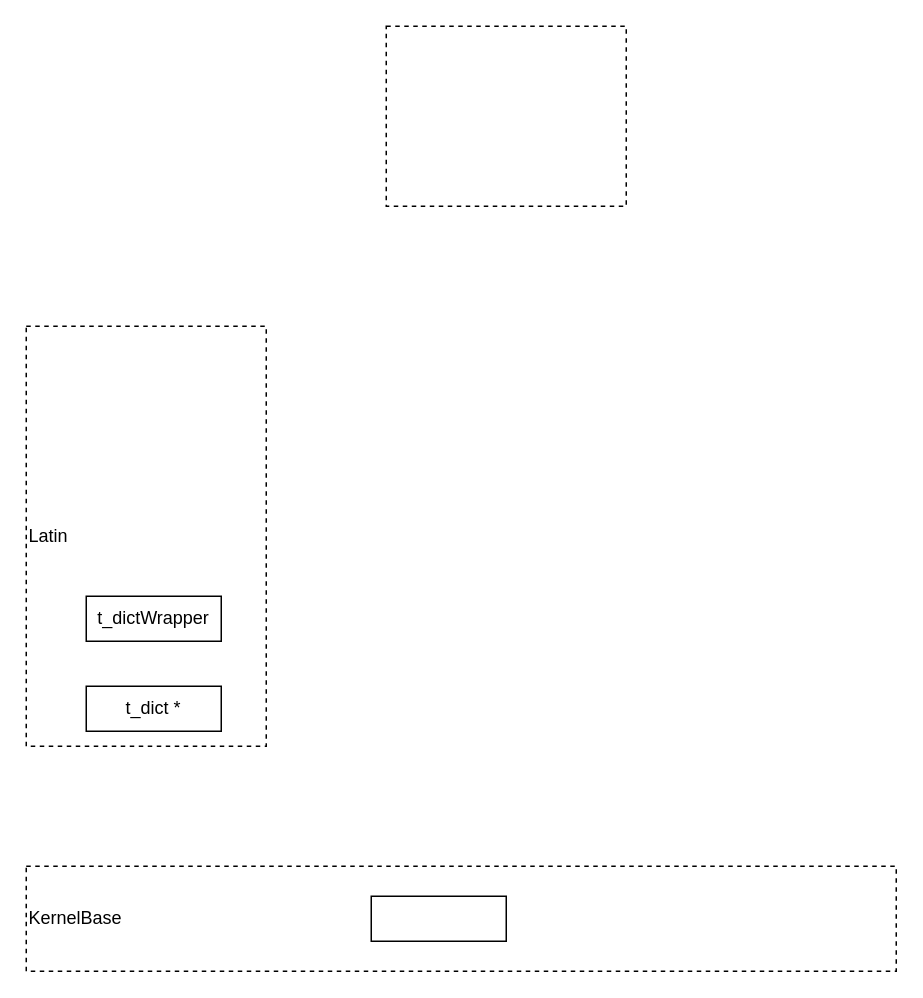
Image size: 923x998. Some labels were removed from this diagram. Each missing label, with the centre of its shape:
"shell" goes at point (505, 115).
"t_dictBaseTree" goes at point (438, 918).
